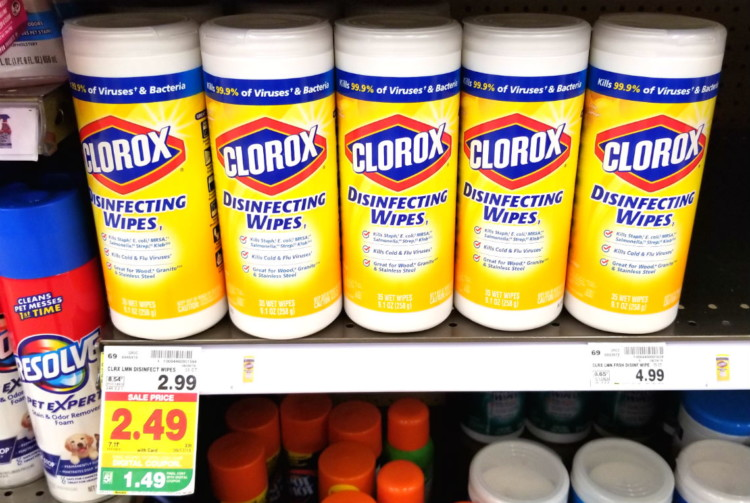Wipes: (58, 7, 231, 348), (563, 5, 731, 335), (197, 5, 353, 346), (455, 6, 594, 335), (331, 5, 463, 339)
